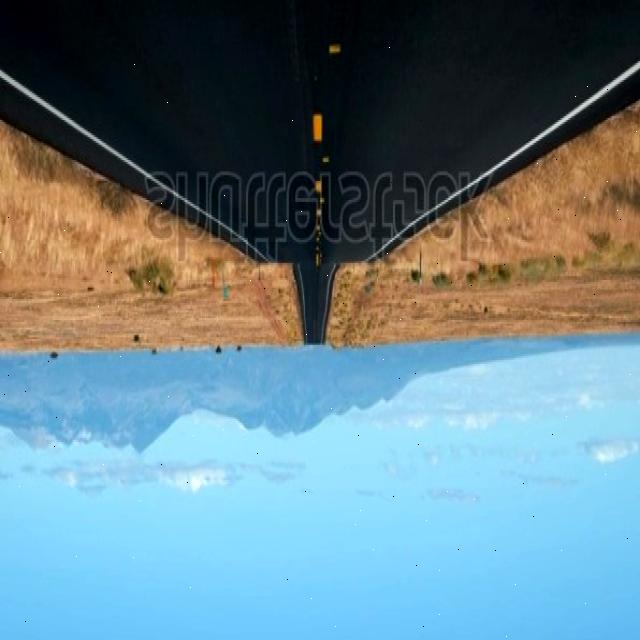lane: (296, 4, 347, 345), (306, 4, 344, 269), (312, 114, 322, 143), (328, 44, 340, 55), (315, 179, 321, 198)
